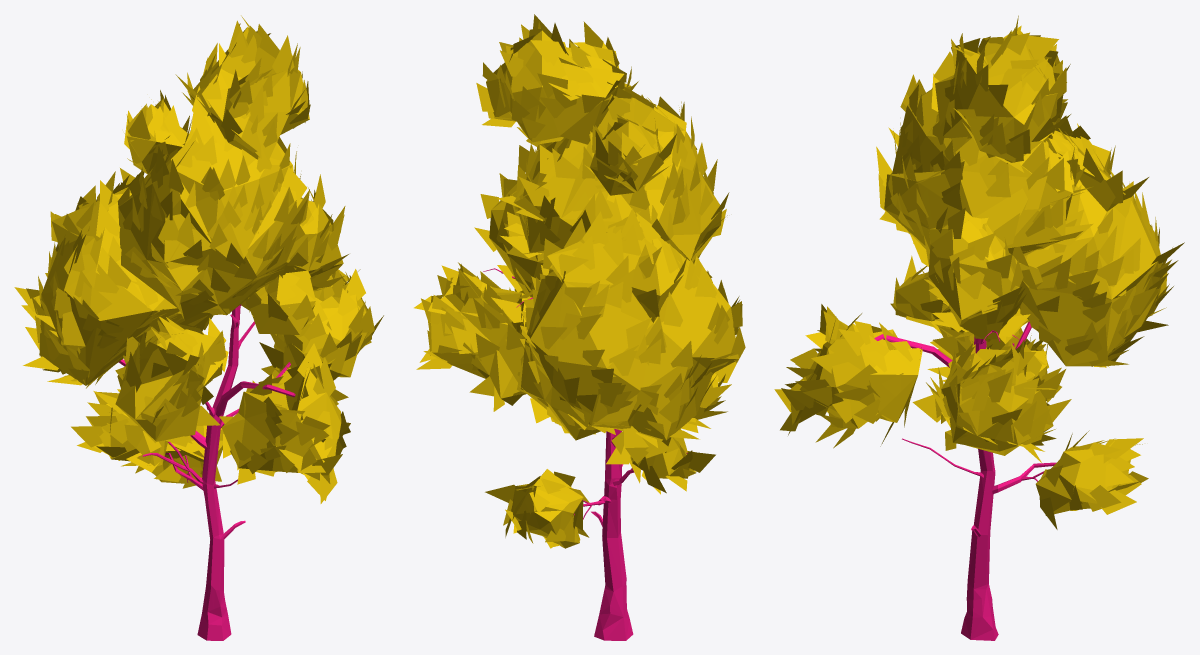
Rendered from SM_Tree_Birch_Mature_D.fbx.
3 views of the same model, side by side, from view 1: azimuth 30°, elevation 25°; view 2: azimuth 150°, elevation 25°; view 3: azimuth 270°, elevation 25° (orthographic). The views are drawn at different scales.
Parts seen in each view (by area): view 1: SM_Tree_Birch_Mature_D; view 2: SM_Tree_Birch_Mature_D; view 3: SM_Tree_Birch_Mature_D.
Part boxes in pixels (bbox=[...]): SM_Tree_Birch_Mature_D: bbox=[14, 15, 383, 640]; SM_Tree_Birch_Mature_D: bbox=[414, 14, 745, 640]; SM_Tree_Birch_Mature_D: bbox=[774, 15, 1184, 640].
Bounding box in the file's own units: 5.93 × 10.73 × 6.24.
